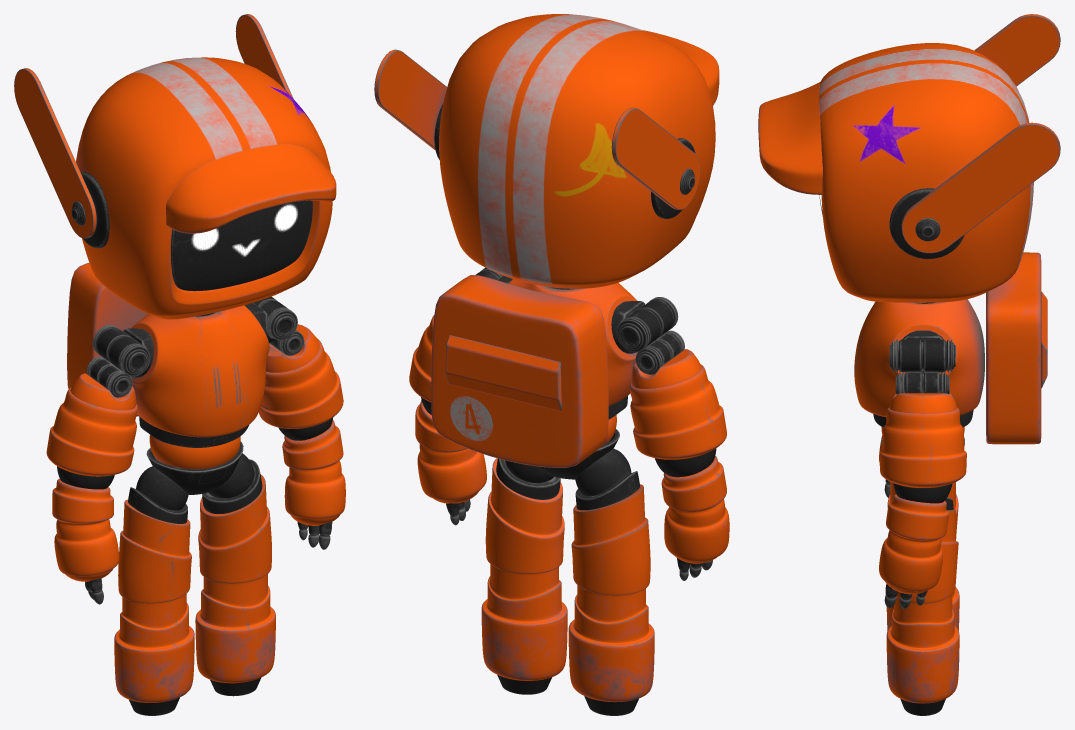
File: robo.glb
3 views of the same model, side by side, from view 1: azimuth 30°, elevation 25°; view 2: azimuth 150°, elevation 25°; view 3: azimuth 270°, elevation 25° (orthographic). The views are drawn at different scales.
Parts seen in each view (by area): view 1: head, legs_high, body, arms_high, arms_high.002, cap, screen, ears, bag, arm_joints, arms_high.003, Cube (+9 smaller); view 2: head, legs_high, bag, arms_high.002, ears, arms_high, bag.001, body, arm_joints, legs_high.001, Cube, arms_high.003 (+7 smaller); view 3: head, ears, bag, legs_high, body, arms_high, cap, arms_high.002, arm_joints, ears_part_1, arms_high.003, arm_joints_2 (+3 smaller).
Boxes of the visible parts, <box> form: head: <box>76,57,332,319</box>; legs_high: <box>114,474,275,715</box>; body: <box>130,305,269,437</box>; arms_high: <box>46,338,343,476</box>; arms_high.002: <box>52,420,345,576</box>; cap: <box>166,144,336,233</box>; screen: <box>171,200,312,291</box>; ears: <box>14,14,293,238</box>; bag: <box>67,263,147,416</box>; arm_joints: <box>93,296,297,376</box>; arms_high.003: <box>70,324,319,410</box>; Cube: <box>136,453,254,510</box>; head: <box>439,14,715,288</box>; legs_high: <box>481,458,654,715</box>; bag: <box>431,275,608,467</box>; arms_high.002: <box>415,400,729,561</box>; ears: <box>374,49,700,209</box>; arms_high: <box>409,315,726,459</box>; bag.001: <box>445,335,561,411</box>; body: <box>509,279,637,405</box>; arm_joints: <box>475,267,678,352</box>; legs_high.001: <box>496,458,639,510</box>; Cube: <box>505,448,631,496</box>; arms_high.003: <box>631,349,701,388</box>; head: <box>819,43,1033,302</box>; ears: <box>901,14,1060,253</box>; bag: <box>986,252,1041,444</box>; legs_high: <box>886,482,959,715</box>; body: <box>854,299,984,416</box>; arms_high: <box>879,407,966,487</box>; cap: <box>758,82,822,194</box>; arms_high.002: <box>879,435,949,591</box>; arm_joints: <box>889,339,955,372</box>; ears_part_1: <box>889,188,964,259</box>; arms_high.003: <box>889,393,956,413</box>; arm_joints_2: <box>895,372,949,394</box>.
Bounding box in the file's own units: 0.8116 × 1.69 × 0.7407.
2 materials, 2 textured.
